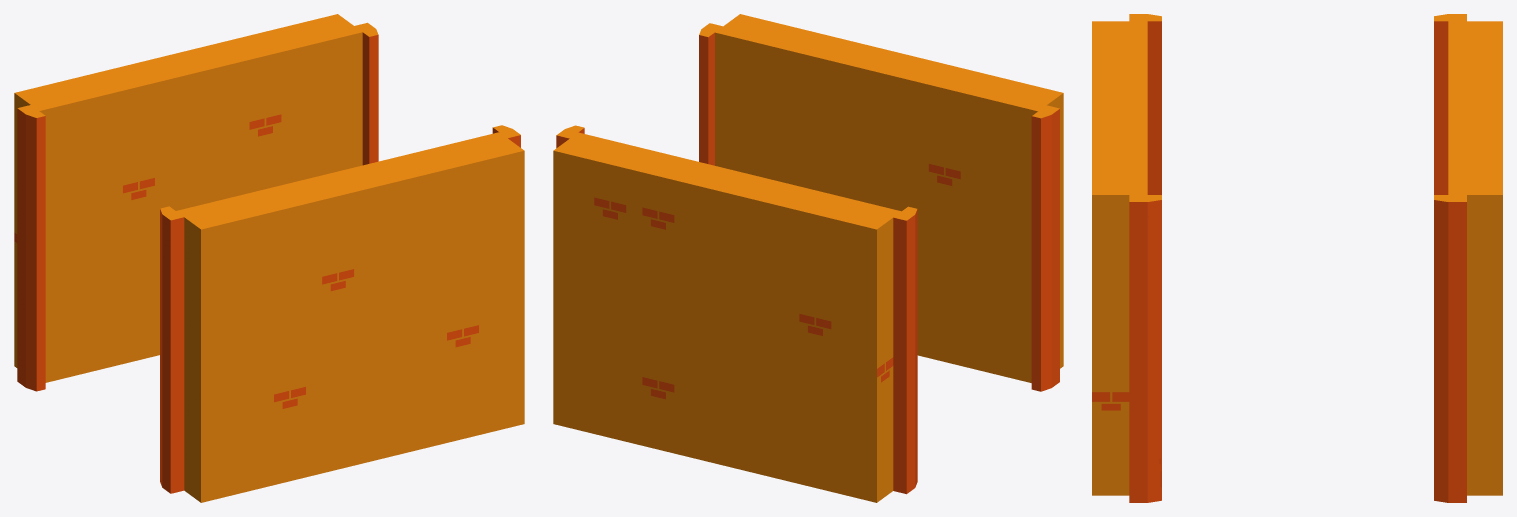
Rendered from Bridge1ArchExtender1.fbx.
3 views of the same model, side by side, from view 1: azimuth 30°, elevation 25°; view 2: azimuth 150°, elevation 25°; view 3: azimuth 270°, elevation 25° (orthographic). The views are drawn at different scales.
Parts seen in each view (by area): view 1: Bridge1ArchExtender1; view 2: Bridge1ArchExtender1; view 3: Bridge1ArchExtender1.
Boxes of the visible parts, x1,y1,x2,y2 form: Bridge1ArchExtender1: (14, 14, 524, 502); Bridge1ArchExtender1: (553, 14, 1063, 502); Bridge1ArchExtender1: (1092, 14, 1502, 502).
Size of the model in its own units: 13 by 9.69 by 12.
